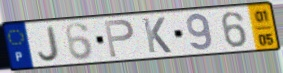6: (64, 21, 95, 62), (219, 10, 250, 49)
9: (184, 12, 215, 53)
J: (36, 24, 61, 63)
K: (141, 16, 174, 55)
P: (102, 18, 137, 60)
